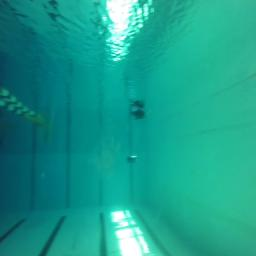Full: (129, 106, 145, 118), (126, 156, 137, 162)
